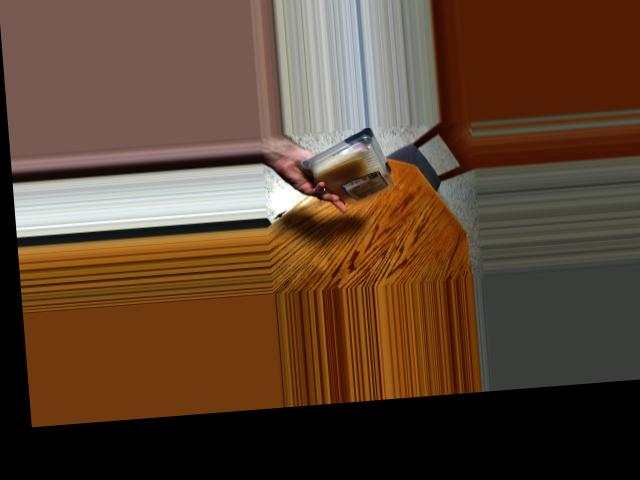cheese: (309, 131, 393, 205)
